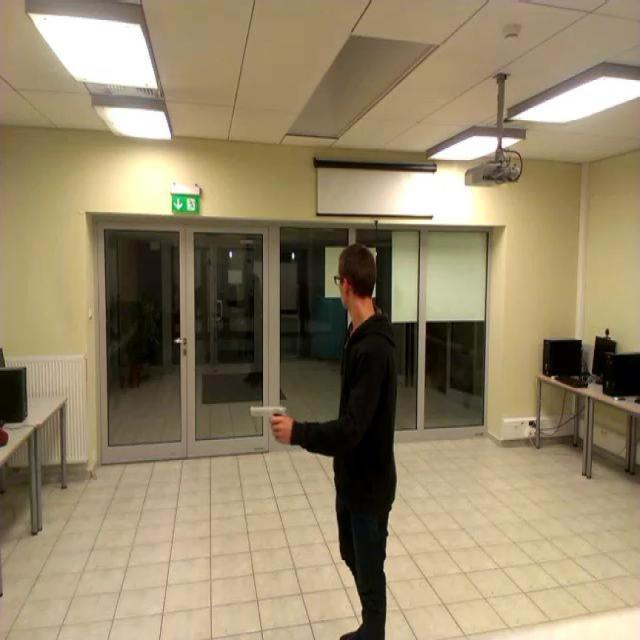pistol: (251, 404, 288, 437)
